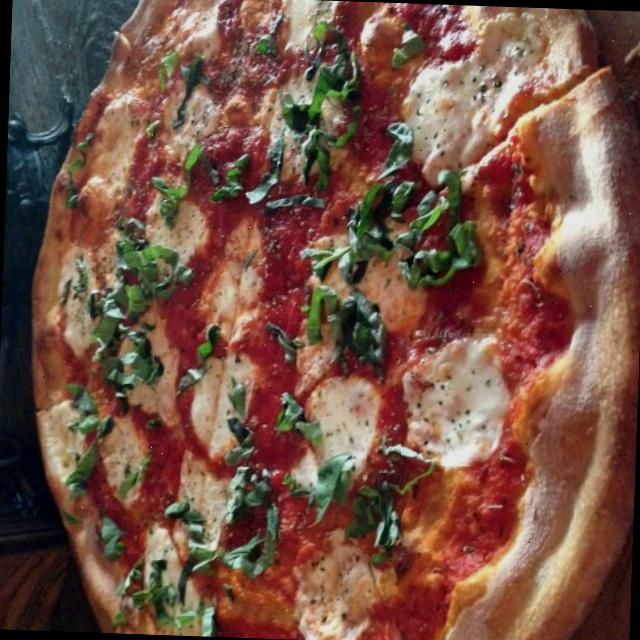basil: (398, 165, 476, 292), (345, 117, 406, 263), (277, 29, 365, 130), (89, 242, 182, 337), (120, 564, 220, 636), (321, 290, 389, 364), (58, 380, 96, 503), (290, 243, 334, 342), (96, 330, 156, 399), (224, 502, 276, 576), (154, 140, 202, 220), (352, 476, 403, 546), (305, 456, 355, 524), (292, 127, 336, 187), (223, 462, 272, 514), (207, 151, 250, 202), (154, 52, 203, 93)
cheese: (399, 332, 506, 466), (392, 54, 487, 180), (329, 220, 424, 330), (296, 370, 377, 495), (291, 538, 374, 640), (264, 77, 342, 184), (82, 96, 142, 214), (187, 346, 252, 454), (116, 306, 174, 420), (208, 227, 266, 333), (142, 192, 206, 282), (167, 448, 224, 548), (54, 239, 100, 354), (160, 80, 218, 168), (94, 413, 146, 511)
pizza: (33, 0, 640, 640)
